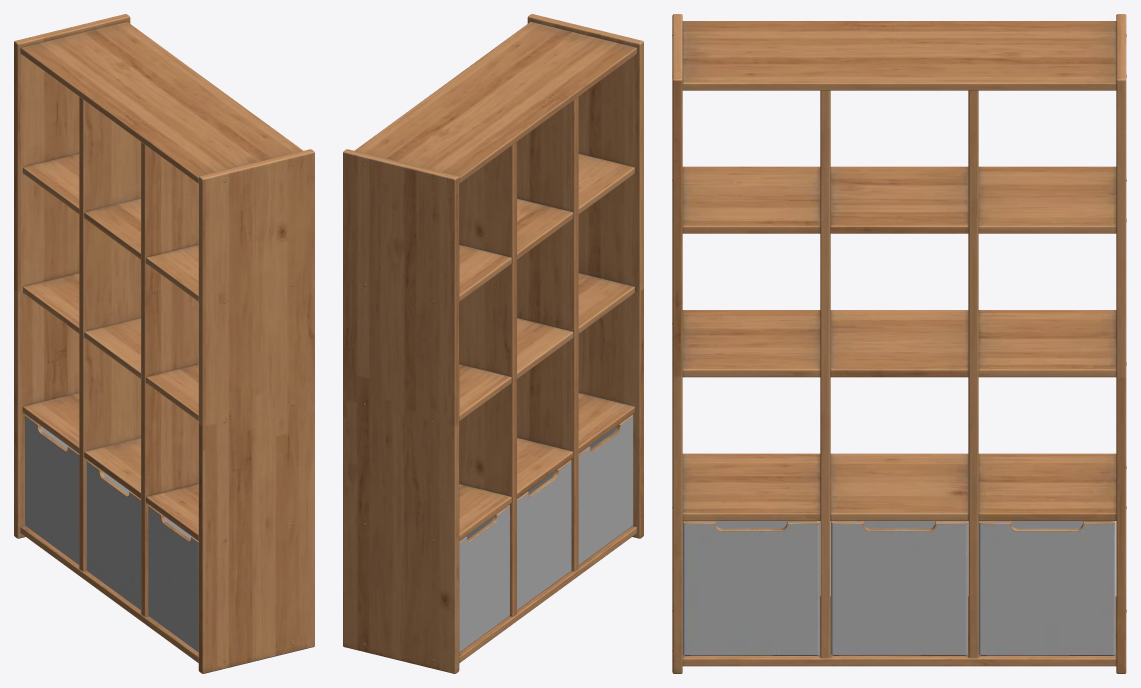
File: kitaplik.glb
3 renders of one model, left to right at view 1: azimuth 30°, elevation 25°; view 2: azimuth 150°, elevation 25°; view 3: azimuth 270°, elevation 25°, orthographic. The views are drawn at different scales.
Visible parts, largest first — view 1: wooden_display_shelves_01, wooden_display_shelves_01_drawer_01, wooden_display_shelves_01_drawer_02, wooden_display_shelves_01_drawer_03; view 2: wooden_display_shelves_01, wooden_display_shelves_01_drawer_03, wooden_display_shelves_01_drawer_02, wooden_display_shelves_01_drawer_01; view 3: wooden_display_shelves_01, wooden_display_shelves_01_drawer_01, wooden_display_shelves_01_drawer_03, wooden_display_shelves_01_drawer_02.
Boxes of the visible parts, box(x1,y1,x2,y2) form: wooden_display_shelves_01: box(14, 14, 314, 673); wooden_display_shelves_01_drawer_01: box(25, 415, 79, 565); wooden_display_shelves_01_drawer_02: box(86, 460, 140, 610); wooden_display_shelves_01_drawer_03: box(148, 505, 198, 652); wooden_display_shelves_01: box(343, 14, 643, 673); wooden_display_shelves_01_drawer_03: box(578, 415, 633, 565); wooden_display_shelves_01_drawer_02: box(517, 460, 571, 610); wooden_display_shelves_01_drawer_01: box(459, 505, 509, 652); wooden_display_shelves_01: box(672, 14, 1126, 673); wooden_display_shelves_01_drawer_01: box(978, 521, 1115, 655); wooden_display_shelves_01_drawer_03: box(682, 521, 819, 655); wooden_display_shelves_01_drawer_02: box(831, 521, 967, 655).
Size of the model in its own units: 0.3715 by 1.56 by 1.08.
Materials: 1 (1 with a texture image).
